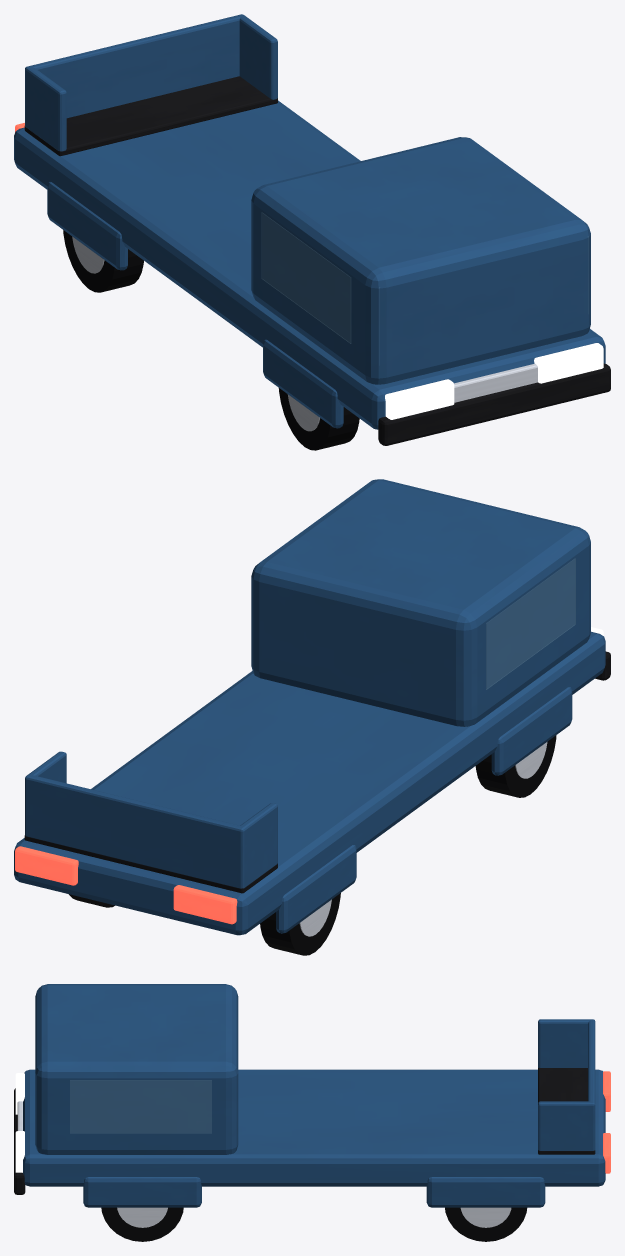
The model's file is truck_pickup.glb.
3 renders of one model, top to bottom at view 1: azimuth 30°, elevation 25°; view 2: azimuth 150°, elevation 25°; view 3: azimuth 270°, elevation 25°, orthographic. The views are drawn at different scales.
Parts seen in each view (by area): view 1: truck_pickup_cab, truck_pickup_chassis, truck_pickup_bed_tailgate, truck_pickup_bed_floor, truck_pickup_bumper_front, truck_pickup_glass_side_l, truck_pickup_arch_rl, truck_pickup_arch_fl, truck_pickup_bed_wall_l, truck_pickup_bed_wall_r, truck_pickup_headlight_l, truck_pickup_headlight_r (+5 smaller); view 2: truck_pickup_cab, truck_pickup_chassis, truck_pickup_bed_tailgate, truck_pickup_glass_side_l, truck_pickup_arch_fl, truck_pickup_arch_rl, truck_pickup_bed_wall_l, tyre_fl, tyre_rl, truck_pickup_taillight_l, truck_pickup_taillight_r, truck_pickup_bed_floor (+1 smaller); view 3: truck_pickup_chassis, truck_pickup_cab, truck_pickup_glass_side_r, truck_pickup_arch_rr, truck_pickup_arch_fr, truck_pickup_bed_wall_r, truck_pickup_bed_wall_l, truck_pickup_bed_floor, tyre_rr, tyre_fr, hub_rr, hub_fr (+3 smaller).
Part boxes in pixels (<box>): truck_pickup_cab: <box>251,137,590,384</box>; truck_pickup_chassis: <box>14,100,605,429</box>; truck_pickup_bed_tailgate: <box>25,14,242,126</box>; truck_pickup_bed_floor: <box>24,76,277,156</box>; truck_pickup_bumper_front: <box>378,363,610,445</box>; truck_pickup_glass_side_l: <box>262,213,350,343</box>; truck_pickup_arch_rl: <box>47,182,127,270</box>; truck_pickup_arch_fl: <box>263,339,343,428</box>; truck_pickup_bed_wall_l: <box>25,66,66,151</box>; truck_pickup_bed_wall_r: <box>238,14,277,99</box>; truck_pickup_headlight_l: <box>385,379,454,419</box>; truck_pickup_headlight_r: <box>534,343,603,383</box>; truck_pickup_cab: <box>251,479,590,726</box>; truck_pickup_chassis: <box>14,631,605,935</box>; truck_pickup_bed_tailgate: <box>26,775,246,887</box>; truck_pickup_glass_side_l: <box>486,558,575,689</box>; truck_pickup_arch_fl: <box>491,687,572,775</box>; truck_pickup_arch_rl: <box>276,845,356,933</box>; truck_pickup_bed_wall_l: <box>237,803,277,888</box>; tyre_fl: <box>475,735,556,797</box>; tyre_rl: <box>260,893,340,955</box>; truck_pickup_taillight_l: <box>173,885,237,924</box>; truck_pickup_taillight_r: <box>15,846,78,885</box>; truck_pickup_bed_floor: <box>24,835,277,893</box>; truck_pickup_chassis: <box>23,1069,605,1186</box>; truck_pickup_cab: <box>35,984,238,1154</box>; truck_pickup_glass_side_r: <box>70,1080,211,1132</box>; truck_pickup_arch_rr: <box>426,1177,545,1207</box>; truck_pickup_arch_fr: <box>83,1177,201,1207</box>; truck_pickup_bed_wall_r: <box>538,1101,595,1150</box>; truck_pickup_bed_wall_l: <box>538,1019,595,1067</box>; truck_pickup_bed_floor: <box>538,1067,595,1154</box>; tyre_rr: <box>445,1207,527,1241</box>; tyre_fr: <box>101,1207,183,1241</box>; hub_rr: <box>460,1207,511,1227</box>; hub_fr: <box>117,1207,167,1227</box>.
Bounding box in the file's own units: 2.12 × 1.85 × 5.73.
Materials: 34 (34 with a texture image).
